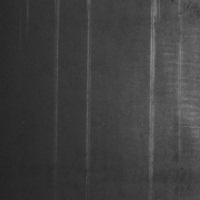scratches: (147, 0, 160, 188), (83, 1, 96, 183), (52, 1, 62, 165)
